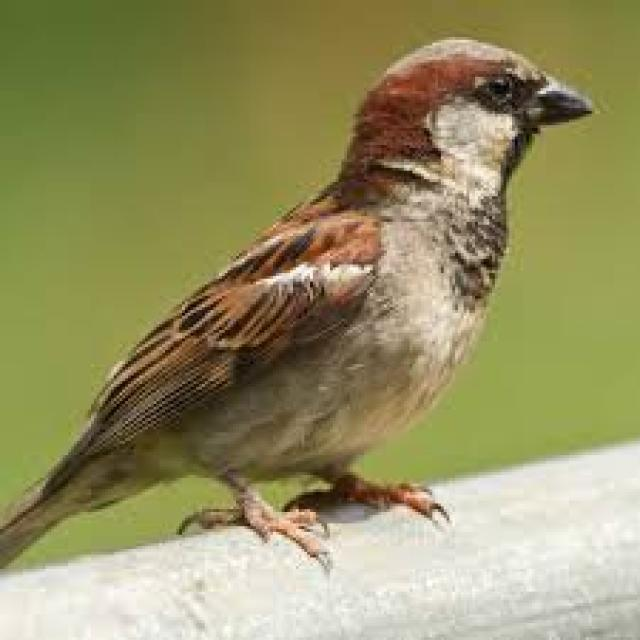Sparrow: (1, 32, 592, 580)
